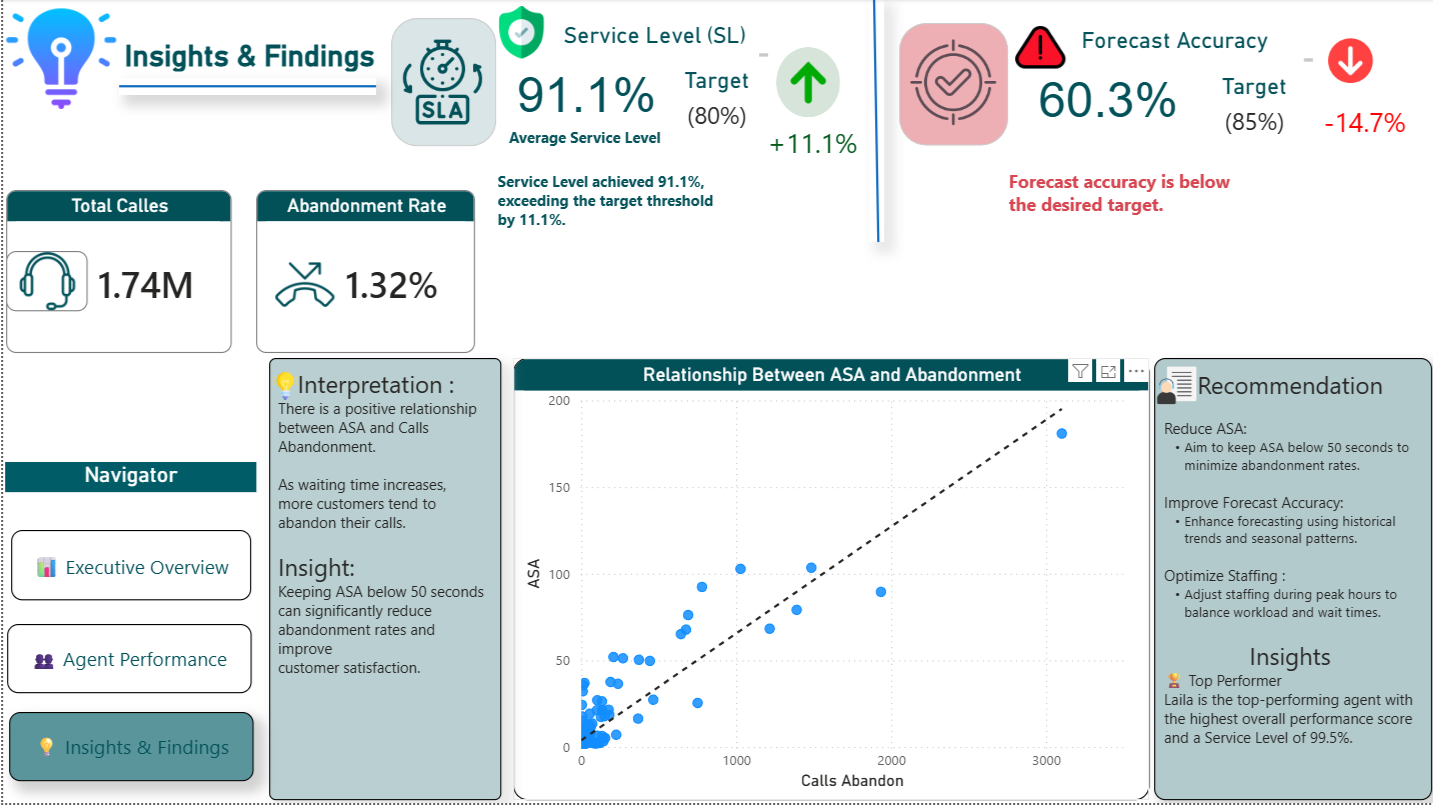

Layout of this report page (visuals, bound fields, positions):
{"tool":"powerbi","page":{"name":"💡 Insights & Findings","canvas":[1280,720],"ordinal":3},"visuals":[{"type":"image","box":[0,0,103.6,106.8],"z":0},{"type":"group","id":"g1","title":"Group 5","box":[424,6.3,351.7,145.6],"z":0,"group":"g4"},{"type":"shape","box":[347.7,17.1,94.2,114.9],"z":0,"group":"g5"},{"type":"shape","box":[802.2,21.7,97.6,109.7],"z":0,"group":"g7"},{"type":"group","id":"g2","title":"Group 6","box":[347.7,5.3,94.2,138.7],"z":1000,"group":"g4"},{"type":"group","id":"g3","title":"Group 5","box":[883.9,20.2,293.7,112.3],"z":1000,"group":"g13"},{"type":"textbox","title":" Insights & Findings","box":[103.6,34.9,267.4,34.9],"z":1000},{"type":"actionButton","title":"Navigator","box":[2.1,414.3,225.1,293.8],"z":1000,"group":"g11"},{"type":"group","id":"g4","title":"Group 7","box":[347.7,5.3,428.1,213.5],"z":2000},{"type":"image","box":[356.2,5.3,76.3,138.7],"z":2000,"group":"g2"},{"type":"image","box":[811,8.5,78.8,132.3],"z":2000,"group":"g9"},{"type":"textbox","box":[438.2,149.3,238.7,70.3],"z":2000,"group":"g4"},{"type":"shape","box":[775.8,0,12.7,217.7],"z":3000},{"type":"actionButton","box":[5.4,637.9,218.6,61.9],"z":3000,"group":"g11"},{"type":"image","box":[424,6.3,81.1,46.6],"z":4000,"group":"g1"},{"type":"image","box":[883.9,20.2,90,47.4],"z":4000,"group":"g3"},{"type":"textbox","box":[895.6,147.6,248,56.4],"z":4000,"group":"g14"},{"type":"scatterChart","title":"Relationship Between ASA and Abandonment","fields":{"X":["Sallah.Calls Abandon"],"Y":["Sallah.ASA"]},"box":[456.6,321.3,569.7,396.4],"z":4000},{"type":"group","id":"g5","title":"Group 1","box":[347.7,17.1,94.2,114.9],"z":5000,"group":"g2"},{"type":"textbox","title":"Service Level  (SL)","box":[497.2,20.4,192.9,35.7],"z":5000,"group":"g6"},{"type":"textbox","title":"Forecast Accuracy","box":[960.9,25.5,216.8,36.2],"z":5000,"group":"g8"},{"type":"textbox","box":[1030.6,321.3,249.4,396.4],"z":5000},{"type":"actionButton","box":[7.1,475,215.3,63],"z":5000,"group":"g11"},{"type":"group","id":"g6","title":"Group 4","box":[446,20.4,329.7,131.5],"z":6000,"group":"g1"},{"type":"group","id":"g7","title":"Group 1","box":[802.2,21.7,97.6,109.7],"z":6000,"group":"g10"},{"type":"group","id":"g8","title":"Group 4","box":[905.3,25.5,272.3,107],"z":6000,"group":"g3"},{"type":"textbox","title":"91.1% ","box":[446,60.7,153.4,77.7],"z":6000,"group":"g6"},{"type":"textbox","title":"60.3%","box":[905.3,65.6,168.7,56.9],"z":6000,"group":"g8"},{"type":"image","box":[1032.7,321.3,37,49.7],"z":6000},{"type":"textbox","title":"Target ","box":[599.4,60.7,80.2,65],"z":7000,"group":"g6"},{"type":"textbox","title":"Target ","box":[1075.7,66.4,90.1,66.1],"z":7000,"group":"g8"},{"type":"textbox","box":[237.8,321.7,208.2,396.4],"z":7000},{"type":"group","id":"g9","title":"Group 11","box":[802.2,8.5,472.5,195.5],"z":8000},{"type":"image","box":[679.6,50,82,48.5],"z":8000,"group":"g12"},{"type":"image","box":[1186.4,32.8,39.9,46.7],"z":9000,"group":"g13"},{"type":"shape","box":[691.9,43.2,57.4,63.1],"z":9000,"group":"g12"},{"type":"shape","box":[103.6,70.8,230.4,14.8],"z":9000},{"type":"group","id":"g10","title":"Group 10","box":[802.2,20.2,472.7,183.8],"z":10000,"group":"g9"},{"type":"textbox","box":[1177.6,88.3,97.3,45.7],"z":10000,"group":"g13"},{"type":"textbox","box":[679.6,106.3,96.1,45.6],"z":10000,"group":"g6"},{"type":"group","id":"g11","title":"Group 2","box":[2.1,414.3,225.1,293.8],"z":10000},{"type":"image","box":[237.8,334,29.6,25.4],"z":11000},{"type":"group","id":"g12","title":"Group 3","box":[679.6,43.2,82,63.1],"z":11001,"group":"g6"},{"type":"group","id":"g13","title":"Group 8","box":[883.9,20.2,391,113.8],"z":12003,"group":"g14"},{"type":"group","id":"g14","title":"Group 9","box":[883.9,20.2,391,183.8],"z":12004,"group":"g10"},{"type":"actionButton","box":[4.3,559.2,218.6,61.9],"z":18000,"group":"g11"}]}

Visuals, with their boxes in screenshot pixels (x1, y1, x2, y2), scaled from the page's 1280x720 canvas onto the 1433x806 screenshot:
image: {"x1": 0, "y1": 0, "x2": 116, "y2": 120}
"Group 5" group: {"x1": 475, "y1": 7, "x2": 868, "y2": 170}
shape: {"x1": 389, "y1": 19, "x2": 495, "y2": 148}
shape: {"x1": 898, "y1": 24, "x2": 1007, "y2": 147}
"Group 6" group: {"x1": 389, "y1": 6, "x2": 495, "y2": 161}
"Group 5" group: {"x1": 990, "y1": 23, "x2": 1318, "y2": 148}
" Insights & Findings" textbox: {"x1": 116, "y1": 39, "x2": 415, "y2": 78}
"Navigator" actionButton: {"x1": 2, "y1": 464, "x2": 254, "y2": 793}
"Group 7" group: {"x1": 389, "y1": 6, "x2": 869, "y2": 245}
image: {"x1": 399, "y1": 6, "x2": 484, "y2": 161}
image: {"x1": 908, "y1": 10, "x2": 996, "y2": 158}
textbox: {"x1": 491, "y1": 167, "x2": 758, "y2": 246}
shape: {"x1": 869, "y1": 0, "x2": 883, "y2": 244}
actionButton: {"x1": 6, "y1": 714, "x2": 251, "y2": 783}
image: {"x1": 475, "y1": 7, "x2": 565, "y2": 59}
image: {"x1": 990, "y1": 23, "x2": 1090, "y2": 76}
textbox: {"x1": 1003, "y1": 165, "x2": 1280, "y2": 228}
"Relationship Between ASA and Abandonment" scatterChart: {"x1": 511, "y1": 360, "x2": 1149, "y2": 803}
"Group 1" group: {"x1": 389, "y1": 19, "x2": 495, "y2": 148}
"Service Level  (SL)" textbox: {"x1": 557, "y1": 23, "x2": 773, "y2": 63}
"Forecast Accuracy" textbox: {"x1": 1076, "y1": 29, "x2": 1318, "y2": 69}
textbox: {"x1": 1154, "y1": 360, "x2": 1432, "y2": 803}
actionButton: {"x1": 8, "y1": 532, "x2": 249, "y2": 602}
"Group 4" group: {"x1": 499, "y1": 23, "x2": 868, "y2": 170}
"Group 1" group: {"x1": 898, "y1": 24, "x2": 1007, "y2": 147}
"Group 4" group: {"x1": 1014, "y1": 29, "x2": 1318, "y2": 148}
"91.1% " textbox: {"x1": 499, "y1": 68, "x2": 671, "y2": 155}
"60.3%" textbox: {"x1": 1014, "y1": 73, "x2": 1202, "y2": 137}
image: {"x1": 1156, "y1": 360, "x2": 1198, "y2": 415}
"Target " textbox: {"x1": 671, "y1": 68, "x2": 761, "y2": 141}
"Target " textbox: {"x1": 1204, "y1": 74, "x2": 1305, "y2": 148}
textbox: {"x1": 266, "y1": 360, "x2": 499, "y2": 804}
"Group 11" group: {"x1": 898, "y1": 10, "x2": 1427, "y2": 228}
image: {"x1": 761, "y1": 56, "x2": 853, "y2": 110}
image: {"x1": 1328, "y1": 37, "x2": 1373, "y2": 89}
shape: {"x1": 775, "y1": 48, "x2": 839, "y2": 119}
shape: {"x1": 116, "y1": 79, "x2": 374, "y2": 96}
"Group 10" group: {"x1": 898, "y1": 23, "x2": 1427, "y2": 228}
textbox: {"x1": 1318, "y1": 99, "x2": 1427, "y2": 150}
textbox: {"x1": 761, "y1": 119, "x2": 868, "y2": 170}
"Group 2" group: {"x1": 2, "y1": 464, "x2": 254, "y2": 793}
image: {"x1": 266, "y1": 374, "x2": 299, "y2": 402}
"Group 3" group: {"x1": 761, "y1": 48, "x2": 853, "y2": 119}
"Group 8" group: {"x1": 990, "y1": 23, "x2": 1427, "y2": 150}
"Group 9" group: {"x1": 990, "y1": 23, "x2": 1427, "y2": 228}
actionButton: {"x1": 5, "y1": 626, "x2": 250, "y2": 695}
